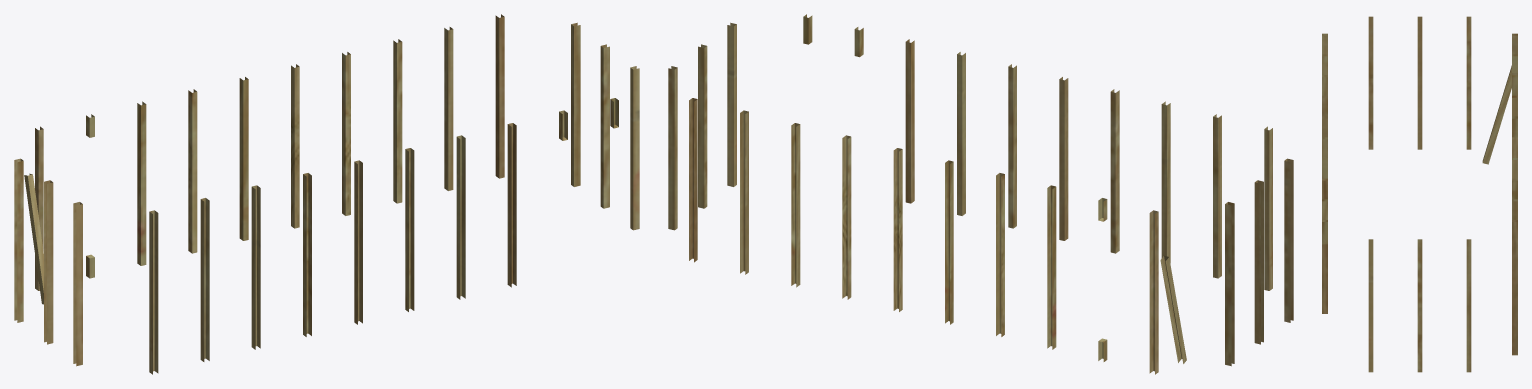
The model's file is Studs.fbx.
The picture shows the model from 3 angles, left to right: view 1: azimuth 30°, elevation 25°; view 2: azimuth 150°, elevation 25°; view 3: azimuth 270°, elevation 25°; orthographic projection. The views are drawn at different scales.
Parts seen in each view (by area): view 1: Cube.001; view 2: Cube.001; view 3: Cube.001.
Boxes of the visible parts, x1,y1,x2,y2 form: Cube.001: (14,14,639,374); Cube.001: (668,14,1293,374); Cube.001: (1322,16,1517,372).
Size of the model in its own units: 1100 by 300 by 400.
